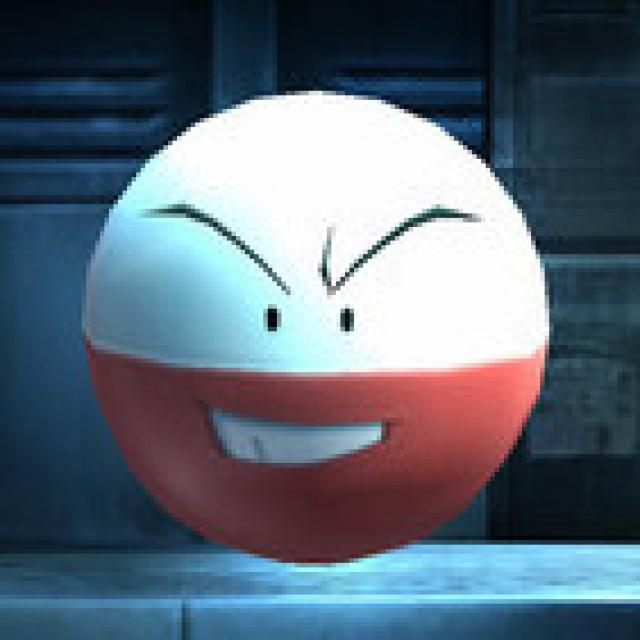Electrode: (74, 83, 559, 568)
